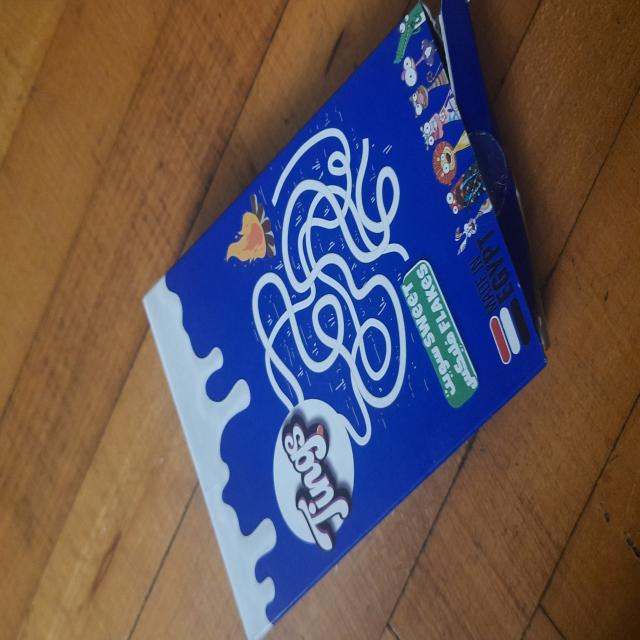cardboard: (134, 0, 573, 640)
